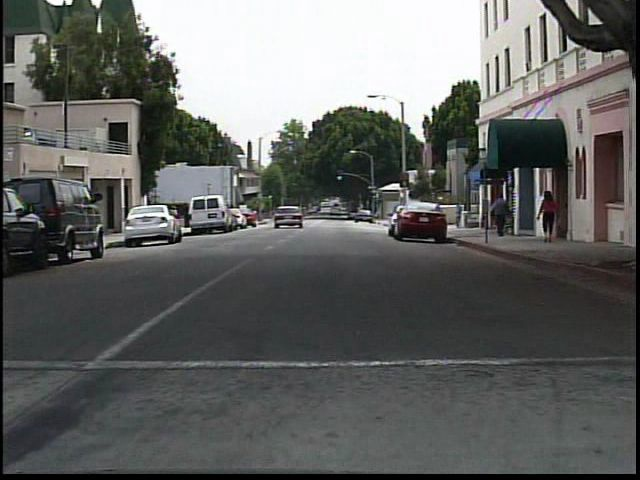person: (537, 187, 561, 245), (488, 193, 512, 240)
